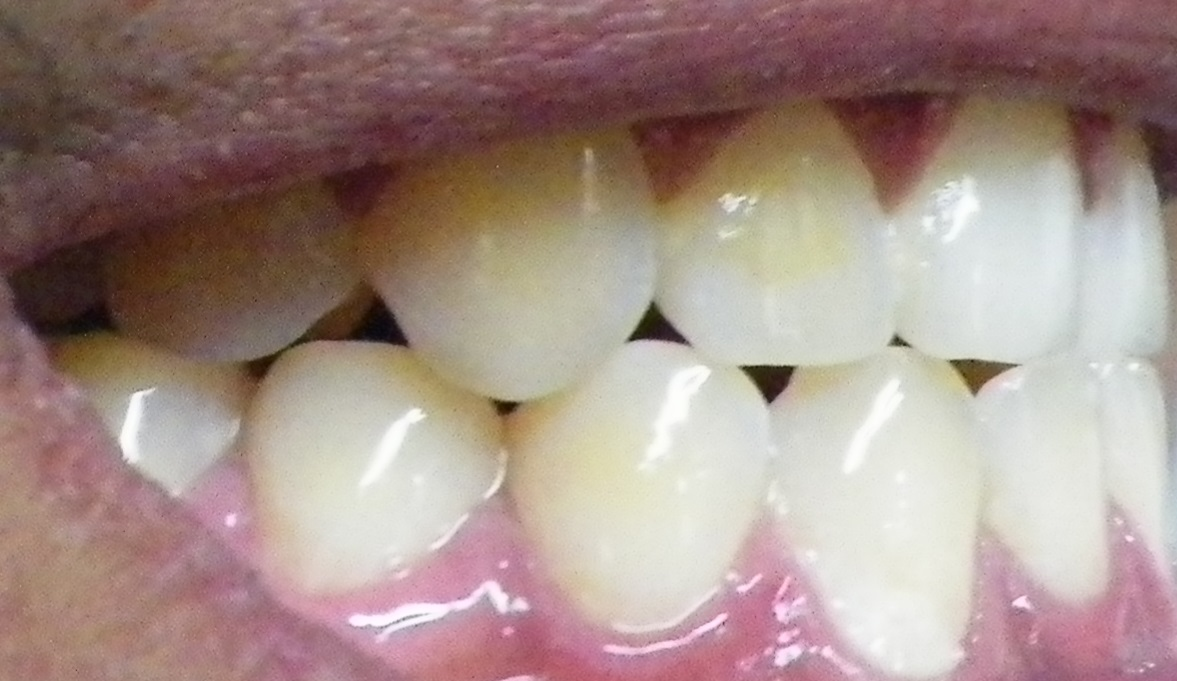boca: (63, 102, 1177, 663)
